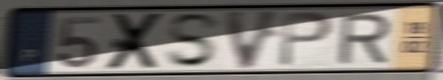5: (56, 14, 104, 69)
P: (277, 10, 336, 69)
R: (335, 11, 394, 66)
S: (165, 12, 223, 70)
V: (222, 8, 285, 72)
X: (103, 10, 168, 72)
